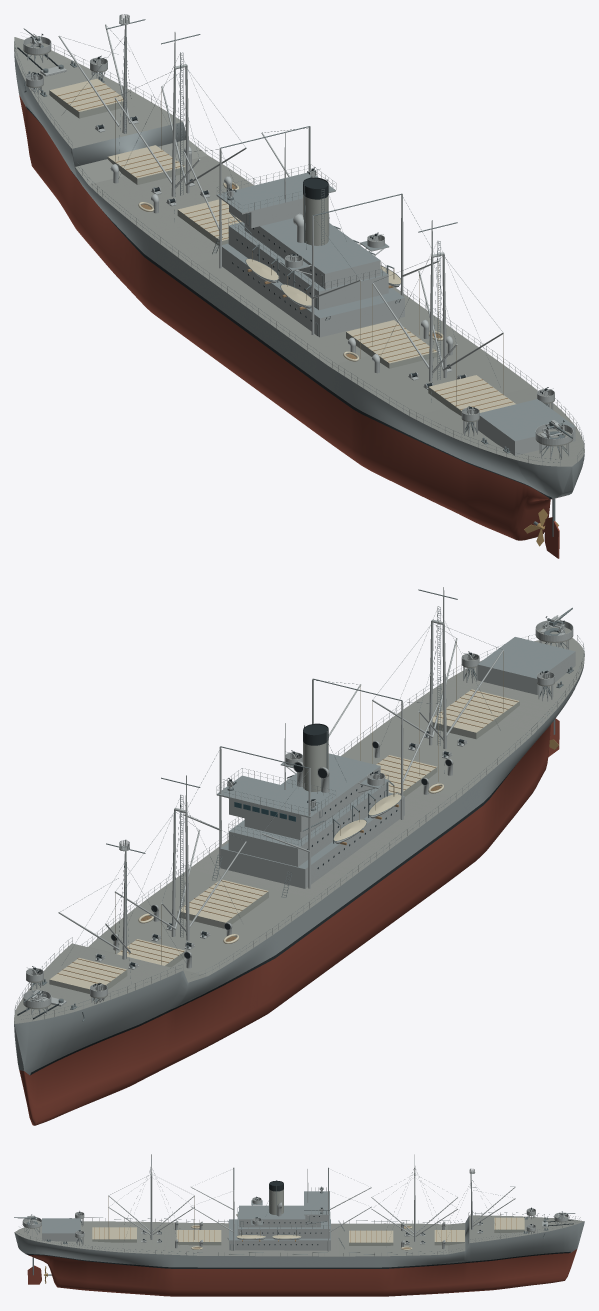
The model's file is victory-cargo.glb.
3 renders of one model, top to bottom at view 1: azimuth 30°, elevation 25°; view 2: azimuth 150°, elevation 25°; view 3: azimuth 270°, elevation 25°, orthographic. The views are drawn at different scales.
Visible parts, largest first — view 1: hull.surface, midship-house.mesh, bridge-deck-house.mesh, boat-deck.mesh, poop-house.mesh, hatch-4.mesh, bridge-wings.mesh, hatch-5.mesh, hatch-1.mesh, deck-rails.mesh, hatch-battens.mesh, hatch-2.mesh (+11 smaller); view 2: hull.surface, midship-house.mesh, boat-deck.mesh, poop-house.mesh, bridge-deck-house.mesh, bridge-wings.mesh, hatch-3.mesh, hatch-5.mesh, hatch-battens.mesh, deck-rails.mesh, house-kingposts.mesh, hatch-1.mesh (+10 smaller); view 3: hull.surface, bridge-deck-house.mesh, midship-house.mesh, boat-deck.mesh, poop-house.mesh, hatch-3.mesh, hatch-5.mesh, deck-rails.mesh, hatch-4.mesh, bridge-wings.mesh, hatch-1.mesh, funnel.mesh (+7 smaller).
Boxes of the visible parts, x1,y1,x2,y2 form: hull.surface: [14, 37, 584, 540]; midship-house.mesh: [222, 243, 404, 337]; bridge-deck-house.mesh: [244, 218, 380, 288]; boat-deck.mesh: [228, 216, 388, 310]; poop-house.mesh: [478, 399, 575, 455]; hatch-4.mesh: [346, 320, 437, 368]; bridge-wings.mesh: [216, 164, 336, 214]; hatch-5.mesh: [428, 375, 515, 422]; hatch-1.mesh: [49, 78, 127, 118]; deck-rails.mesh: [14, 35, 584, 465]; hatch-battens.mesh: [57, 84, 512, 410]; hatch-2.mesh: [107, 145, 185, 184]; hull.surface: [14, 638, 584, 1125]; midship-house.mesh: [220, 792, 404, 888]; boat-deck.mesh: [228, 773, 388, 866]; poop-house.mesh: [477, 637, 575, 694]; bridge-deck-house.mesh: [244, 753, 380, 839]; bridge-wings.mesh: [216, 768, 336, 818]; hatch-3.mesh: [177, 879, 268, 928]; hatch-5.mesh: [428, 689, 519, 739]; hatch-battens.mesh: [57, 690, 517, 983]; deck-rails.mesh: [14, 634, 584, 1020]; house-kingposts.mesh: [184, 678, 438, 888]; hatch-1.mesh: [49, 958, 127, 993]; hull.surface: [14, 1215, 584, 1296]; bridge-deck-house.mesh: [239, 1205, 320, 1227]; midship-house.mesh: [229, 1219, 330, 1250]; boat-deck.mesh: [237, 1207, 330, 1238]; poop-house.mesh: [42, 1218, 80, 1241]; hatch-3.mesh: [349, 1230, 393, 1245]; hatch-5.mesh: [92, 1227, 136, 1242]; deck-rails.mesh: [18, 1212, 580, 1255]; hatch-4.mesh: [176, 1230, 221, 1245]; bridge-wings.mesh: [304, 1187, 329, 1215]; hatch-1.mesh: [494, 1217, 524, 1232]; funnel.mesh: [266, 1180, 283, 1215].
Bounding box in the file's own units: 18.9 × 34.69 × 139.
19 materials, 13 textured.
